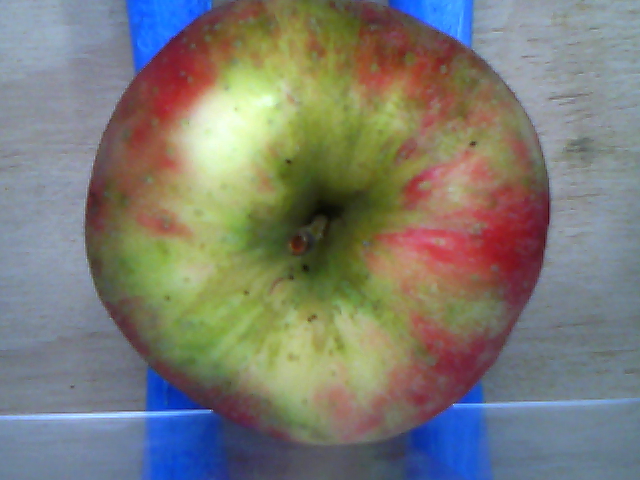stem: (287, 214, 330, 258)
